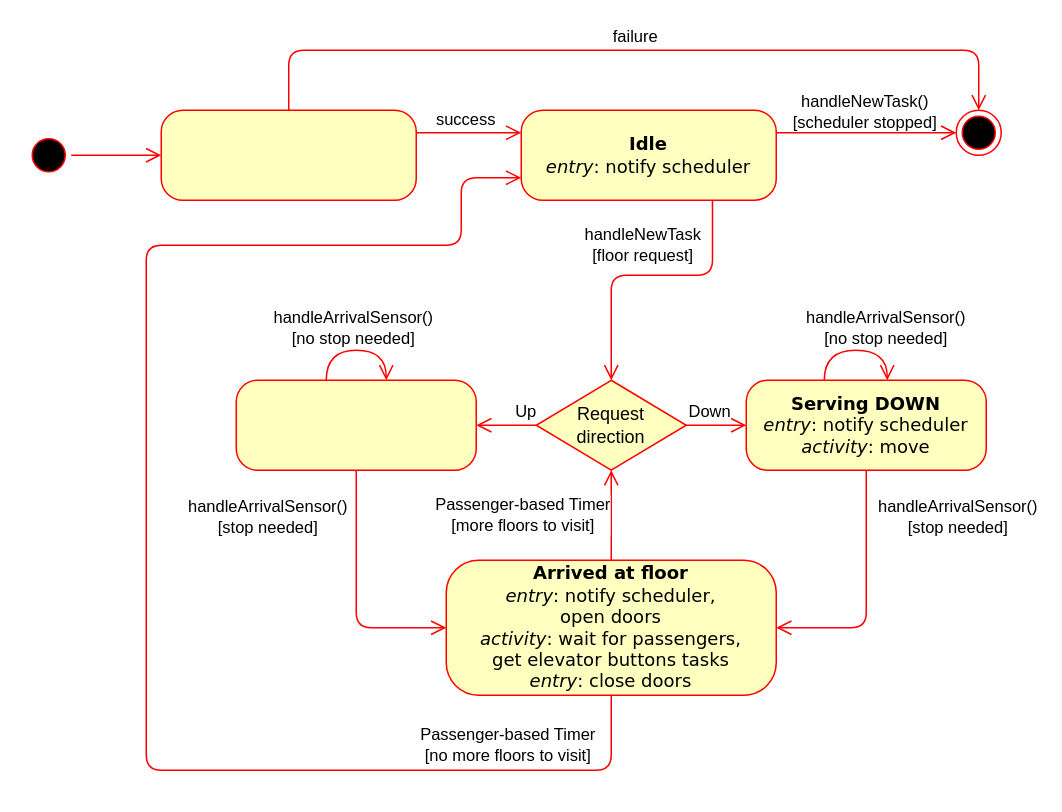
Image size: 1062x812. Some labels were removed from this diagram. The centre of each missing label's shape, as x and y in pixels:
Serving UP entry : notify scheduler activity : move: (355,424)
Sync entry : register with scheduler: (288,154)
